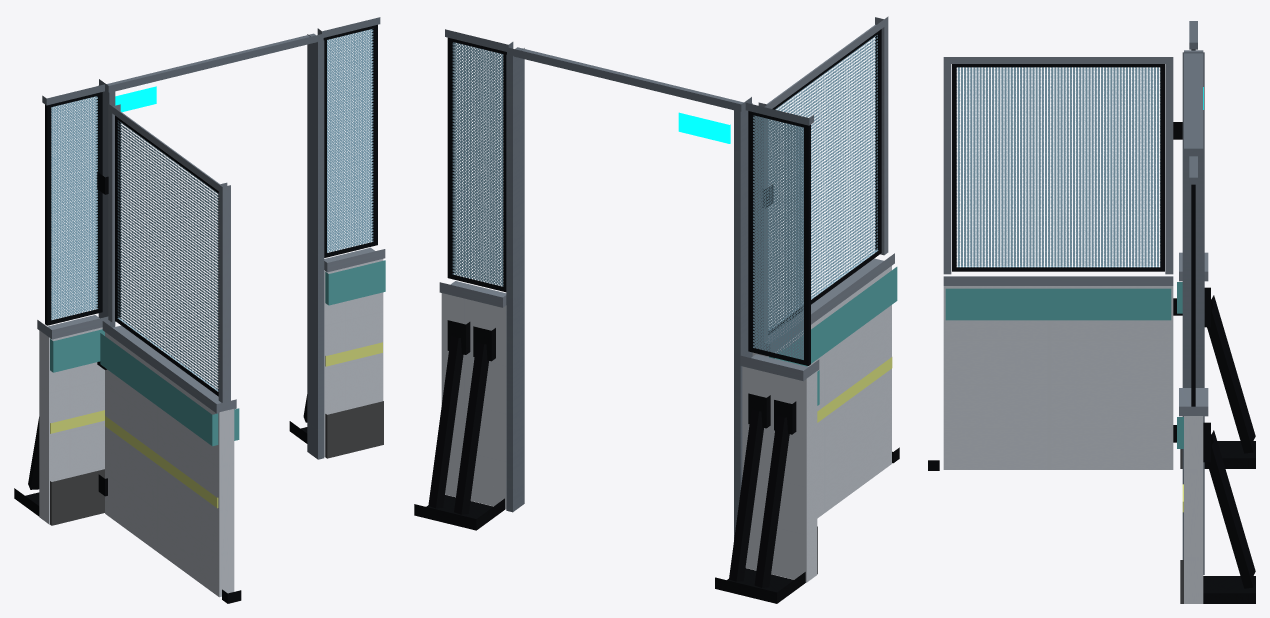
File: tt_rink_board_gate_open.glb
3 renders of one model, left to right at view 1: azimuth 30°, elevation 25°; view 2: azimuth 150°, elevation 25°; view 3: azimuth 270°, elevation 25°, orthographic. The views are drawn at different scales.
Parts seen in each view (by area): view 1: Pane_Scissor, Leaf0_Gate_Leaf_Pane_Scissor, Leaf0_Gate_Leaf_Board, Board_Shell, Gate_Posts, Leaf0_Gate_Leaf_Frame, Pane_Frit, Kick_Plate, Leaf0_Gate_Leaf_Pad, Cap_Pad, Gate_Header, Leaf0_Gate_Leaf_Pane_Frit (+6 smaller); view 2: Pane_Scissor, Board_Shell, Sill_Frame, Leaf0_Gate_Leaf_Pane_Scissor, Gate_Posts, Leaf0_Gate_Leaf_Board, Pane_Frit, Leaf0_Gate_Leaf_Frame, Leaf0_Gate_Leaf_Pad, Gate_Header, Leaf0_Gate_Leaf_Pane_Frit, Cap_Rail (+3 smaller); view 3: Leaf0_Gate_Leaf_Pane_Scissor, Leaf0_Gate_Leaf_Board, Leaf0_Gate_Leaf_Frame, Sill_Frame, Leaf0_Gate_Leaf_Pad, Gate_Posts, Leaf0_Gate_Leaf_Pane_Frit, Board_Shell, Gate_Header, Pane_Frit, Cap_Rail, Glazing_Frame.
Part boxes in pixels (x1,y1,x2,y2): Pane_Scissor: [51, 29, 373, 320]; Leaf0_Gate_Leaf_Pane_Scissor: [117, 120, 218, 391]; Leaf0_Gate_Leaf_Board: [105, 332, 234, 597]; Board_Shell: [39, 259, 383, 524]; Gate_Posts: [98, 34, 324, 459]; Leaf0_Gate_Leaf_Frame: [102, 104, 236, 413]; Pane_Frit: [45, 24, 377, 325]; Kick_Plate: [49, 401, 383, 525]; Leaf0_Gate_Leaf_Pad: [100, 333, 239, 446]; Cap_Pad: [50, 260, 385, 372]; Gate_Header: [99, 33, 323, 92]; Leaf0_Gate_Leaf_Pane_Frit: [115, 115, 218, 396]; Pane_Scissor: [452, 42, 803, 359]; Board_Shell: [441, 293, 817, 582]; Sill_Frame: [414, 320, 805, 603]; Leaf0_Gate_Leaf_Pane_Scissor: [768, 35, 878, 329]; Gate_Posts: [506, 48, 752, 539]; Leaf0_Gate_Leaf_Board: [752, 266, 891, 518]; Pane_Frit: [447, 37, 810, 365]; Leaf0_Gate_Leaf_Frame: [755, 16, 894, 352]; Leaf0_Gate_Leaf_Pad: [768, 267, 897, 366]; Gate_Header: [507, 47, 751, 111]; Leaf0_Gate_Leaf_Pane_Frit: [768, 29, 881, 334]; Cap_Rail: [439, 281, 819, 381]; Leaf0_Gate_Leaf_Pane_Scissor: [956, 67, 1160, 267]; Leaf0_Gate_Leaf_Board: [943, 286, 1173, 469]; Leaf0_Gate_Leaf_Frame: [943, 57, 1173, 285]; Sill_Frame: [1203, 287, 1255, 603]; Leaf0_Gate_Leaf_Pad: [945, 288, 1171, 320]; Gate_Posts: [1182, 52, 1204, 574]; Leaf0_Gate_Leaf_Pane_Frit: [952, 64, 1164, 271]; Board_Shell: [1184, 416, 1203, 603]; Gate_Header: [1184, 50, 1203, 155]; Pane_Frit: [1191, 49, 1195, 406]; Cap_Rail: [1179, 252, 1208, 416]; Glazing_Frame: [1189, 21, 1197, 184].
Size of what is drawn, in the model's own units: 2 by 2.42 by 1.68.
10 materials, 6 textured.
